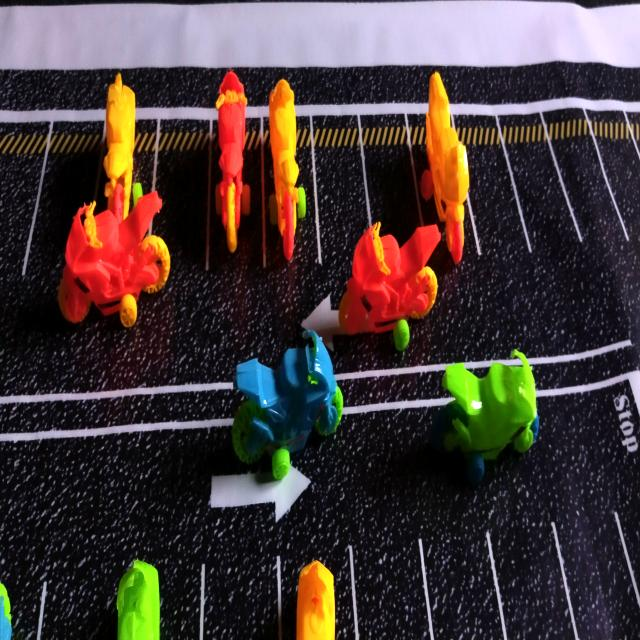bikes: (232, 330, 343, 480), (58, 185, 170, 326), (432, 350, 539, 484), (338, 222, 440, 351)
occupied: (411, 73, 480, 266), (206, 71, 263, 274), (265, 79, 318, 268), (96, 73, 159, 218)
slots: (554, 473, 640, 640), (27, 149, 100, 280), (495, 523, 573, 640), (507, 141, 578, 267), (315, 139, 368, 304), (552, 136, 626, 250), (155, 121, 208, 265), (469, 146, 528, 264), (365, 143, 419, 244), (0, 152, 41, 280), (597, 136, 640, 247)
